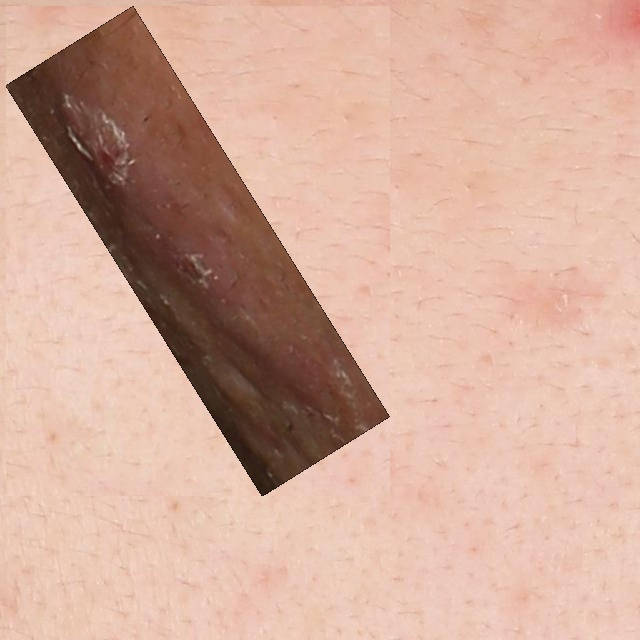nodule: (17, 17, 379, 485)
